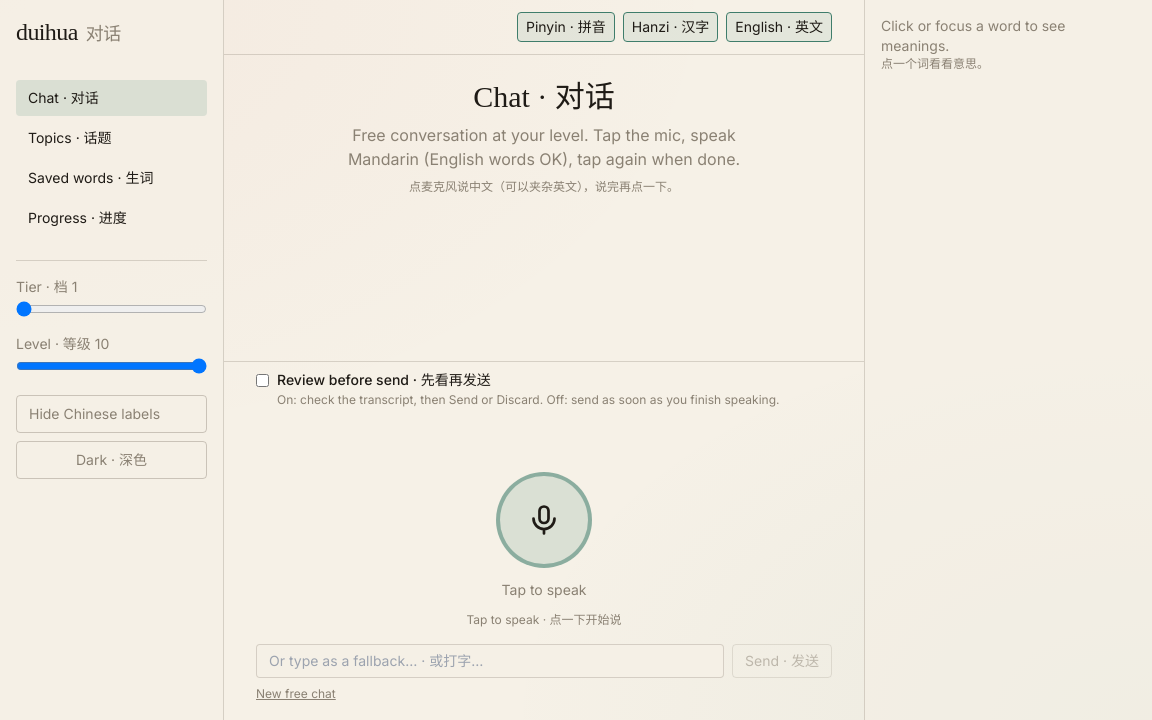
Test case: Shell › shows English rail labels and distinct screens
The image size is (1152, 720).
Check: the button "Chat · 对话" is shown, box [16,80,207,116]
Check: the text "Free conversation at your level" is shown, box [348,125,740,169]
Click the button "Topics · 话题": (112, 138) [16,120,207,156]
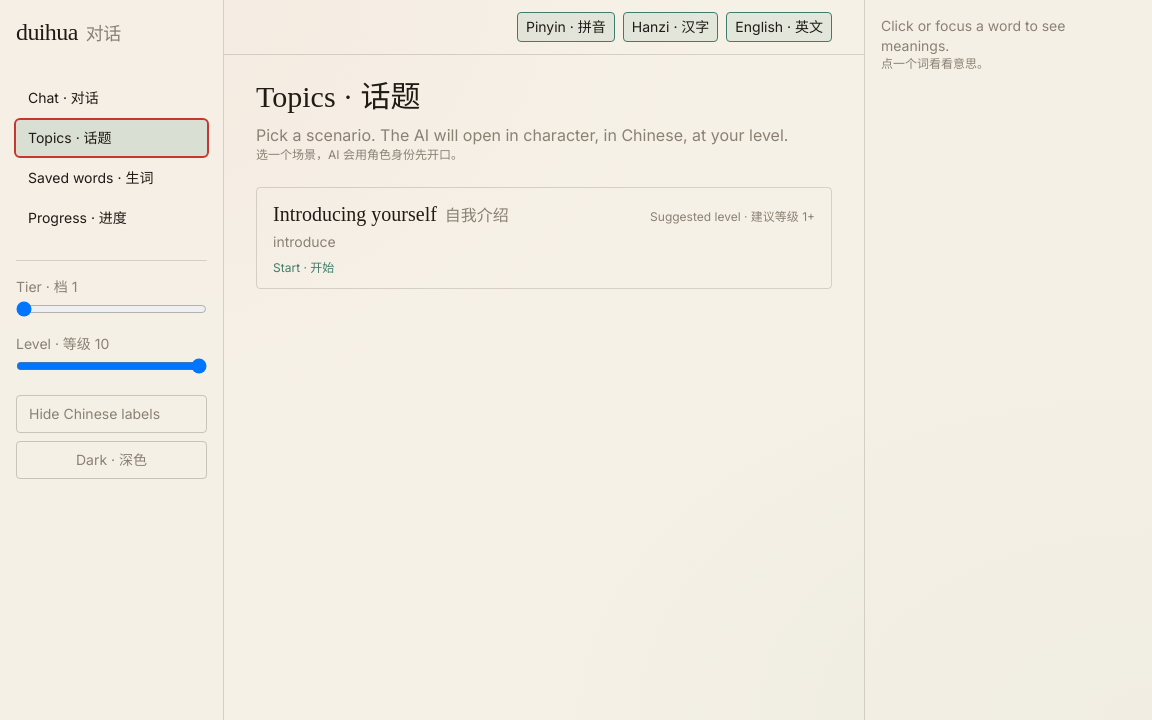
Check: the text "Pick a scenario" is shown, box [256,125,788,145]
Click the button "Progress · 进度": (112, 218) [16,200,207,236]
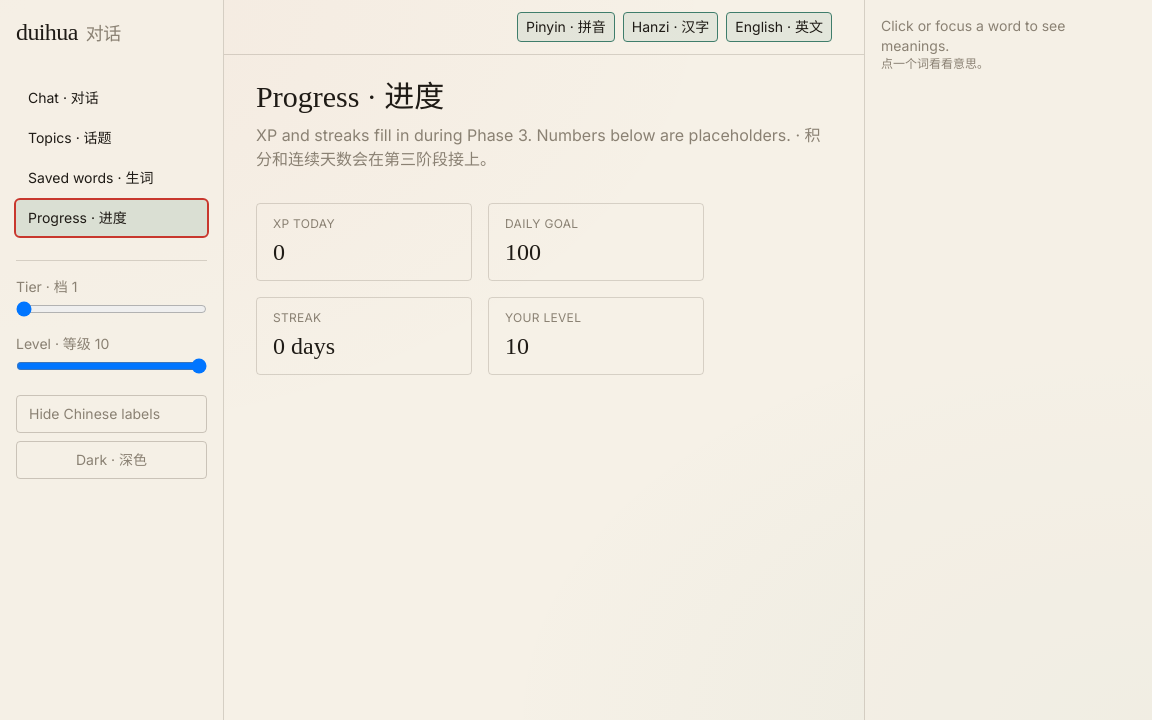
Check: the text "XP today" is shown, box [273,216,335,231]
